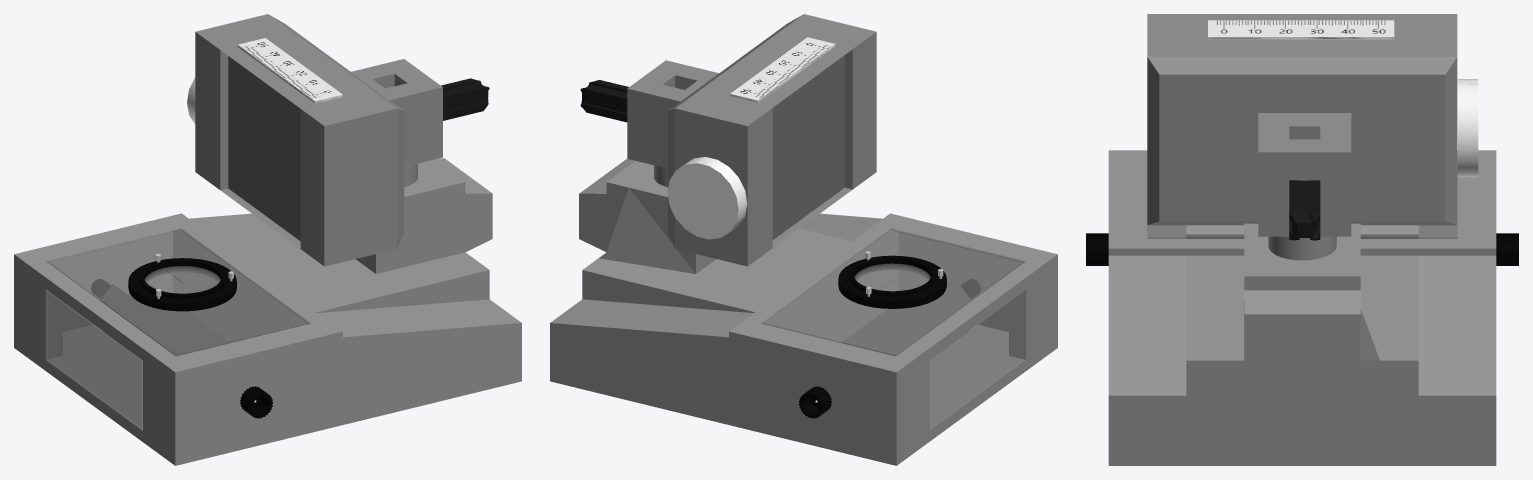
Rendered from 底座固定+牛顿环.obj.
The picture shows the model from 3 angles, left to right: view 1: azimuth 30°, elevation 25°; view 2: azimuth 150°, elevation 25°; view 3: azimuth 270°, elevation 25°; orthographic projection. The views are drawn at different scales.
Parts seen in each view (by area): view 1: object 8, object 3, object 9, object 6, object 10, object 1, object 32, object 18, object 7, object 2, object 20, object 19 (+1 smaller); view 2: object 8, object 3, object 9, object 6, object 10, object 11, object 1, object 32, object 18, object 7, object 2, object 20 (+2 smaller); view 3: object 8, object 3, object 1, object 7, object 9, object 11, object 2, object 5, object 10, object 24, object 28, object 32.
Boxes of the visible parts, bbox=[...] form: object 8: bbox=[14, 158, 521, 465]; object 3: bbox=[195, 14, 404, 266]; object 9: bbox=[47, 228, 309, 356]; object 6: bbox=[228, 56, 300, 240]; object 10: bbox=[45, 290, 142, 430]; object 1: bbox=[351, 59, 442, 166]; object 32: bbox=[100, 282, 230, 360]; object 18: bbox=[128, 258, 236, 306]; object 7: bbox=[237, 38, 342, 103]; object 2: bbox=[441, 78, 489, 120]; object 20: bbox=[146, 270, 219, 293]; object 19: bbox=[128, 267, 236, 311]; object 8: bbox=[550, 159, 1057, 465]; object 3: bbox=[668, 14, 876, 266]; object 9: bbox=[762, 228, 1024, 356]; object 6: bbox=[772, 55, 844, 239]; object 10: bbox=[929, 290, 1026, 430]; object 11: bbox=[667, 157, 747, 239]; object 1: bbox=[627, 60, 718, 168]; object 32: bbox=[841, 280, 970, 360]; object 18: bbox=[838, 255, 946, 303]; object 7: bbox=[730, 37, 835, 102]; object 2: bbox=[580, 80, 628, 122]; object 20: bbox=[856, 268, 928, 290]; object 8: bbox=[1108, 150, 1496, 465]; object 3: bbox=[1147, 14, 1457, 225]; object 1: bbox=[1258, 113, 1351, 236]; object 7: bbox=[1208, 20, 1394, 39]; object 9: bbox=[1147, 159, 1457, 238]; object 11: bbox=[1457, 79, 1478, 177]; object 2: bbox=[1289, 180, 1320, 240]; object 5: bbox=[1268, 236, 1336, 260]; object 10: bbox=[1187, 226, 1417, 233]; object 24: bbox=[1496, 233, 1518, 265]; object 28: bbox=[1086, 233, 1108, 265]; object 32: bbox=[1186, 234, 1418, 238].
Size of the model in its own units: 351 by 248 by 279.
